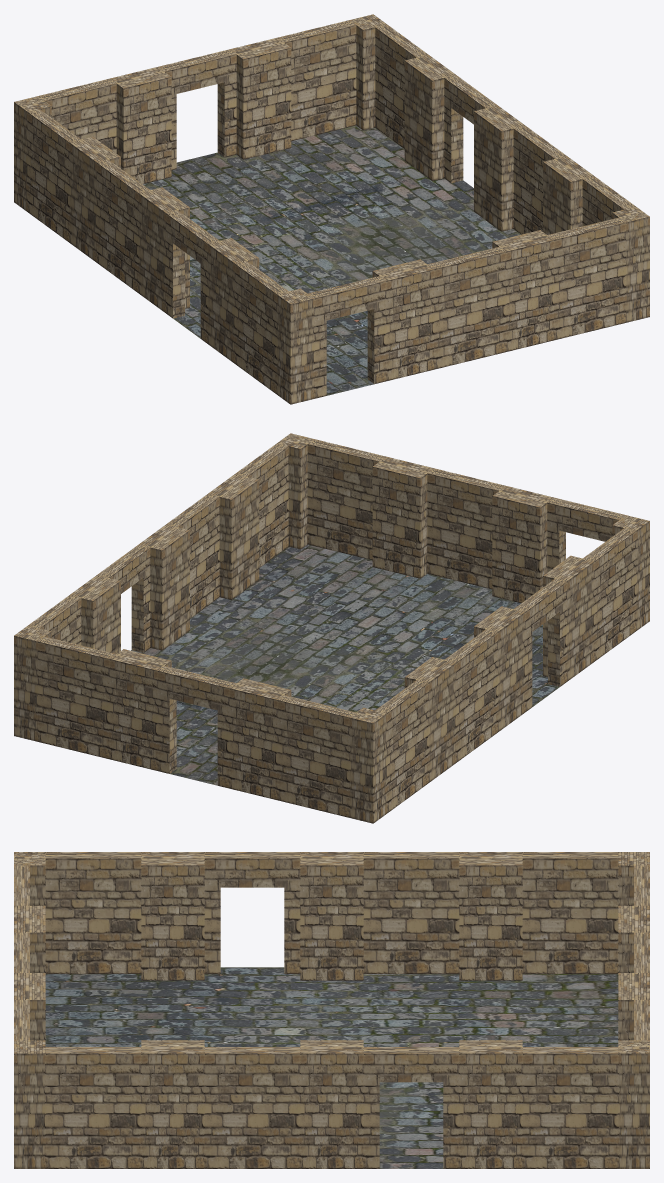
Rendered from 1_4doorConnector.fbx.
3 views of the same model, one above another, from view 1: azimuth 30°, elevation 25°; view 2: azimuth 150°, elevation 25°; view 3: azimuth 270°, elevation 25° (orthographic). The views are drawn at different scales.
Visible parts, largest first — view 1: Cube_1, Plane; view 2: Cube_1, Plane; view 3: Cube_1, Plane.
Part boxes in pixels (x1,y1,x2,y2): Cube_1: (14,14,649,404); Plane: (143,125,520,395); Cube_1: (14,433,649,823); Plane: (131,544,559,785); Cube_1: (14,852,649,1168); Plane: (45,967,618,1168).
Size of the model in its own units: 30 by 8 by 40.
Materials: 2 (2 with a texture image).
